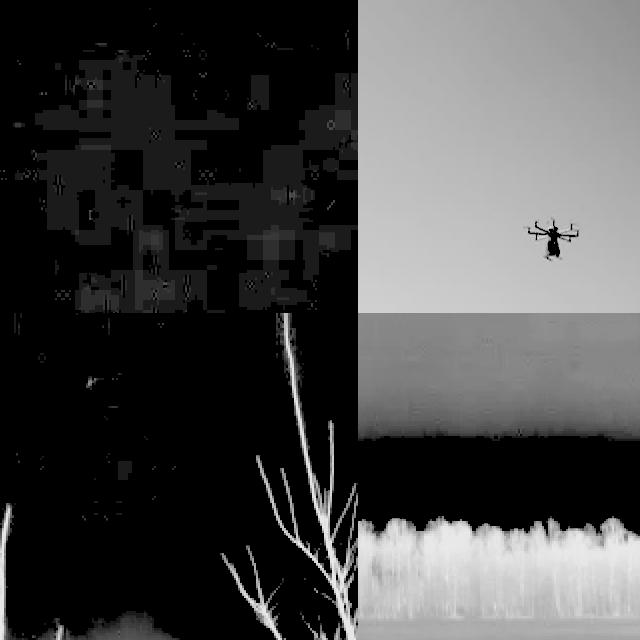0: (75, 373, 99, 401)
drone: (524, 209, 581, 267)
